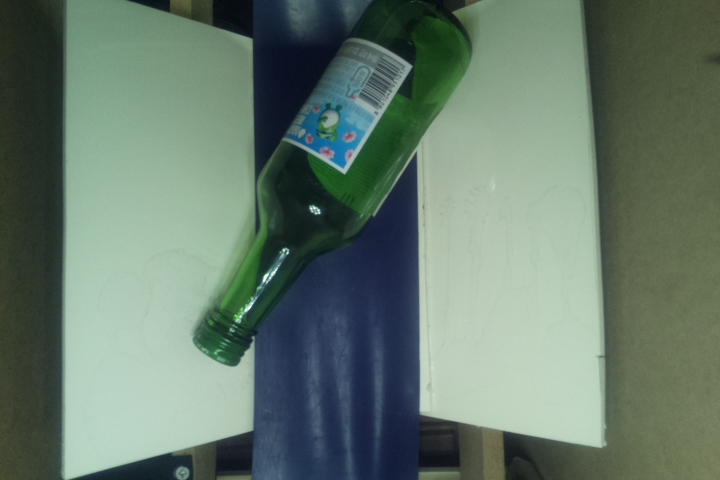soju: (195, 1, 476, 367)
